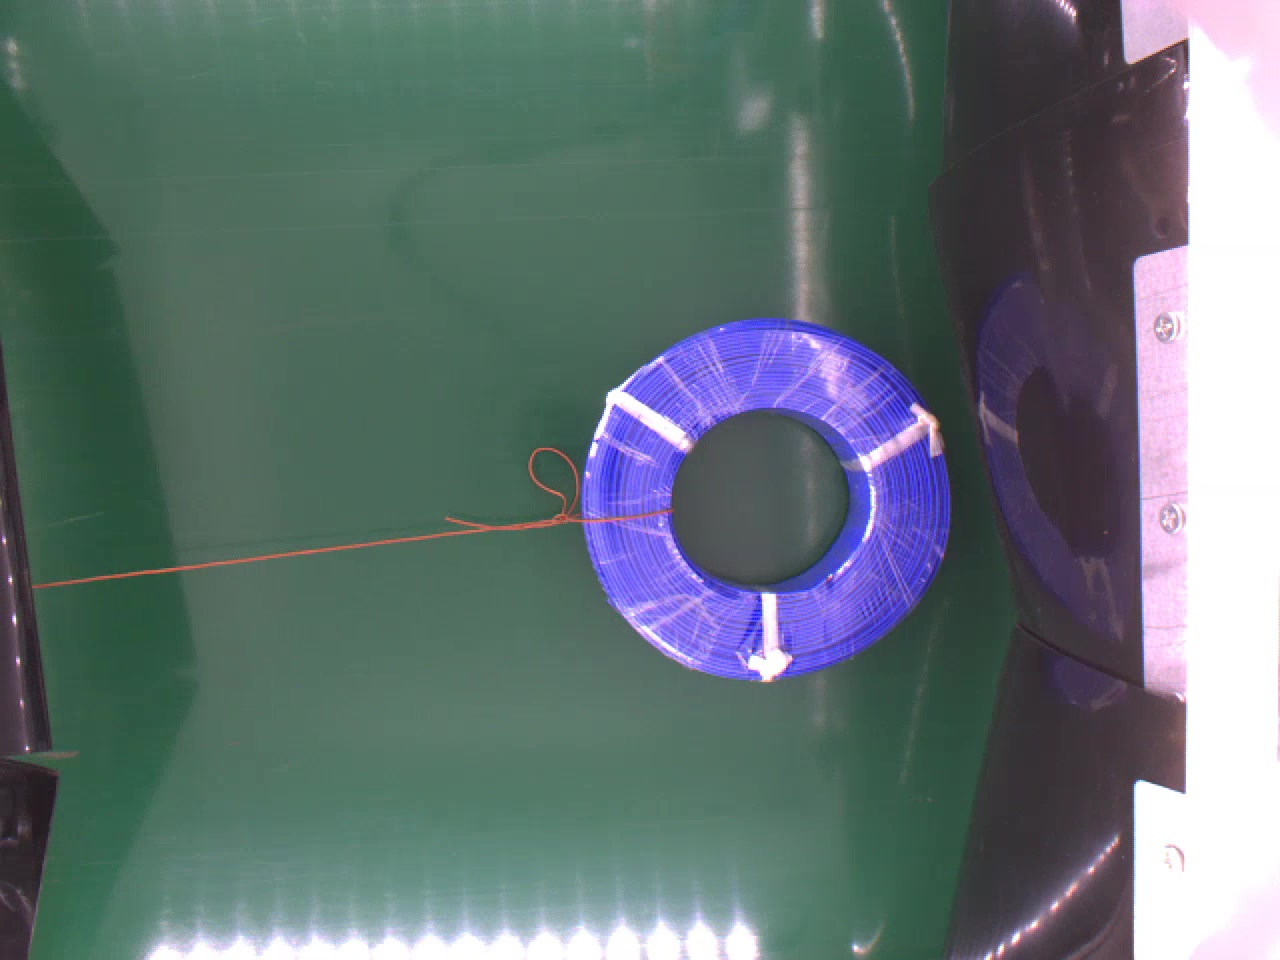blue: (577, 316, 949, 683)
